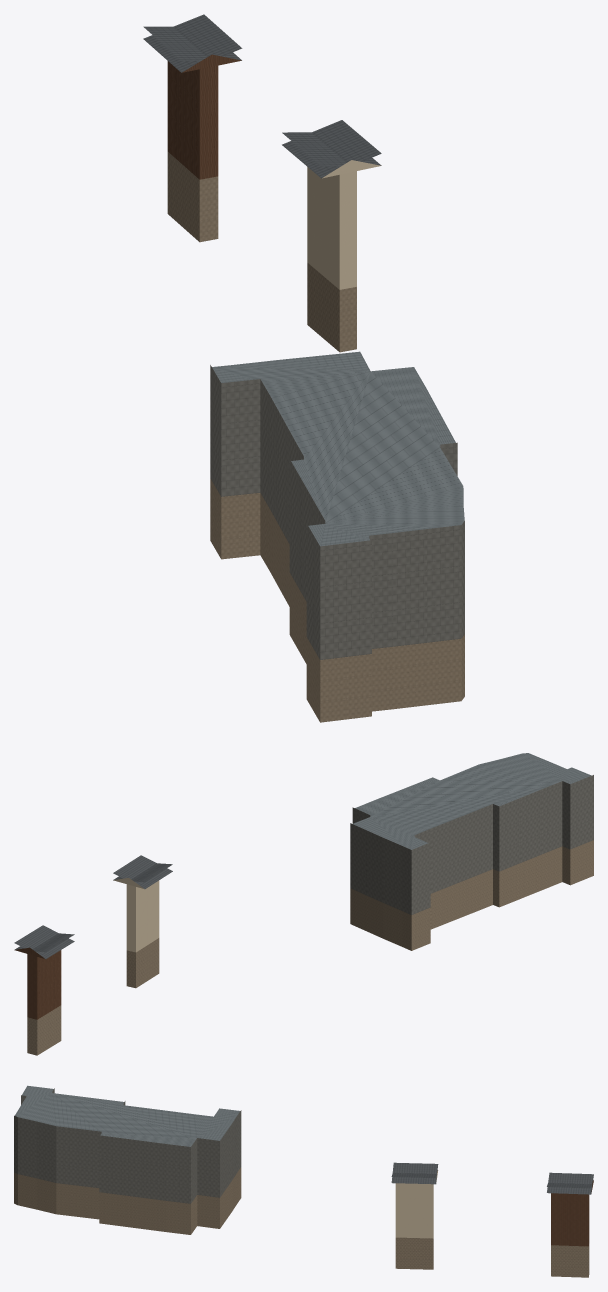
Rendered from bld_c9_40_505.gltf.
The picture shows the model from 3 angles, top to bottom: view 1: azimuth 30°, elevation 25°; view 2: azimuth 150°, elevation 25°; view 3: azimuth 270°, elevation 25°; orthographic projection. The views are drawn at different scales.
Parts seen in each view (by area): view 1: bld_c9_40_505; view 2: bld_c9_40_505; view 3: bld_c9_40_505.
Part boxes in pixels (box(x1,y1,x2,y2)): bld_c9_40_505: box(143, 14, 464, 722); bld_c9_40_505: box(14, 753, 593, 1055); bld_c9_40_505: box(14, 1085, 593, 1277).
Bounding box in the file's own units: 38.24 × 16.4 × 85.78.
Materials: 9 (9 with a texture image).
